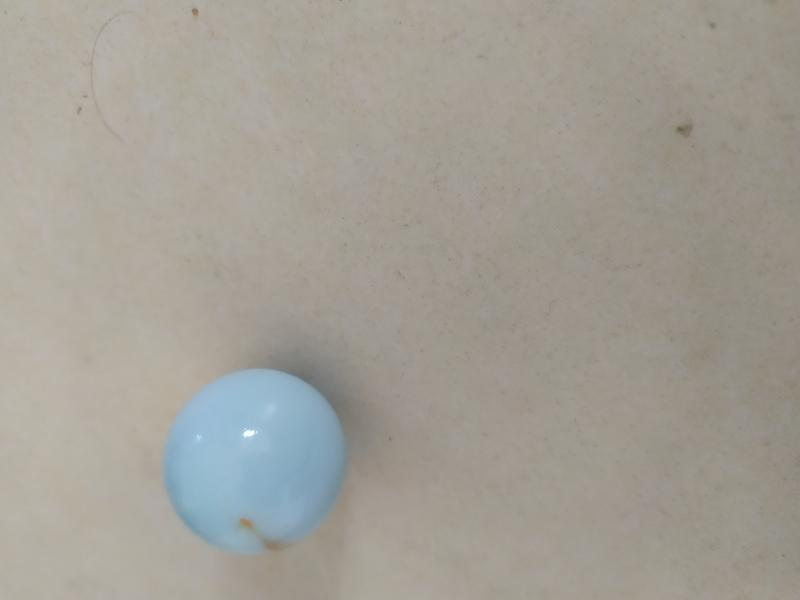Warning: (159, 362, 353, 559)
